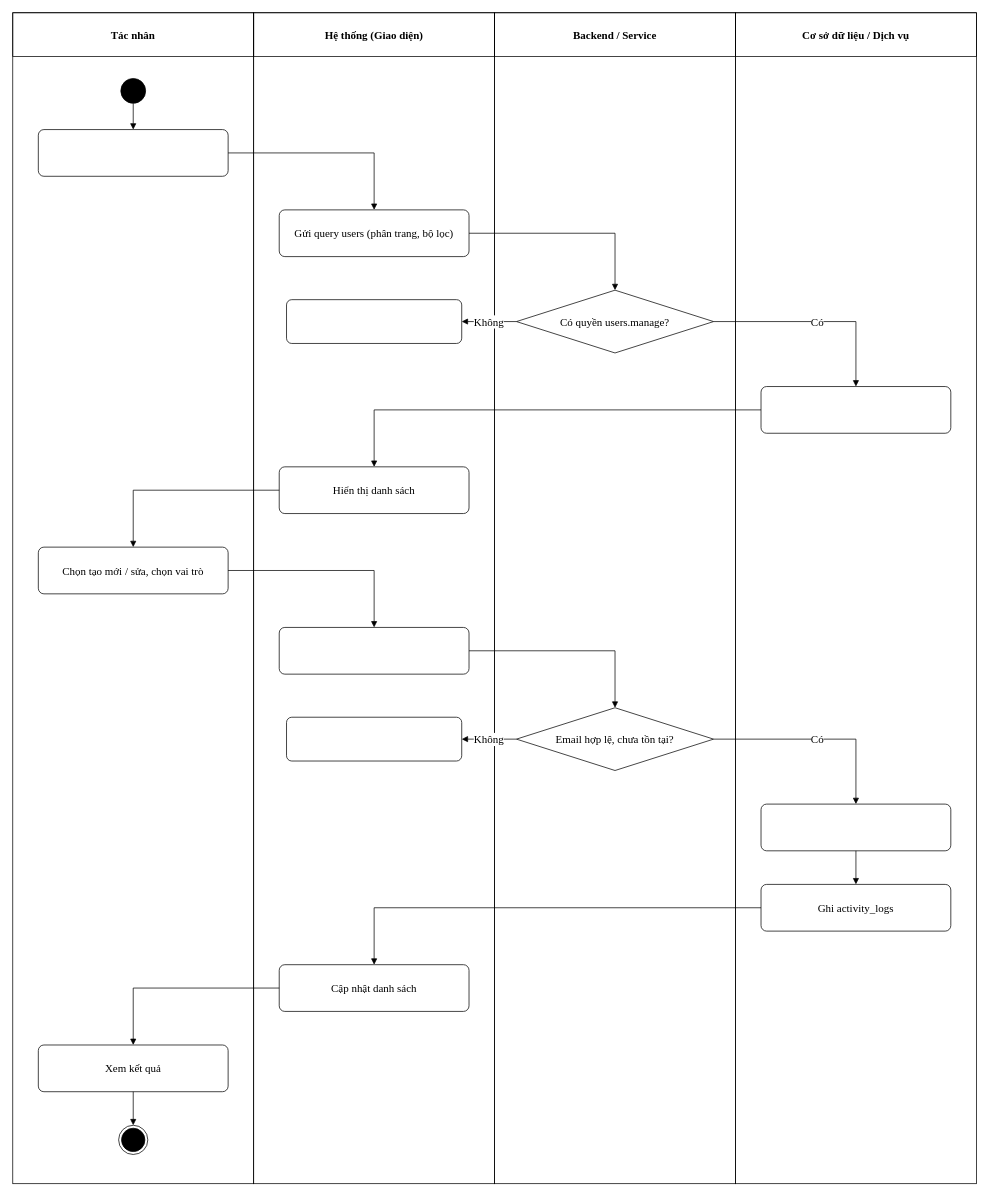
The diagram is 989 pixels wide and 1196 high, and some of its shapes have lost their labels. Here are the shapes that lost their labels. From the top down, the centre of each, then its label:
At (133,152): "Mở màn hình quản lý người dùng".
At (374,321): "Báo 403 – không đủ quyền".
At (855,409): "Truy vấn danh sách người dùng, vai trò".
At (373,650): "Gửi mutation saveUser".
At (374,738): "Hiển thị lỗi dữ liệu".
At (855,827): "Lưu user và vai trò trong transaction".
